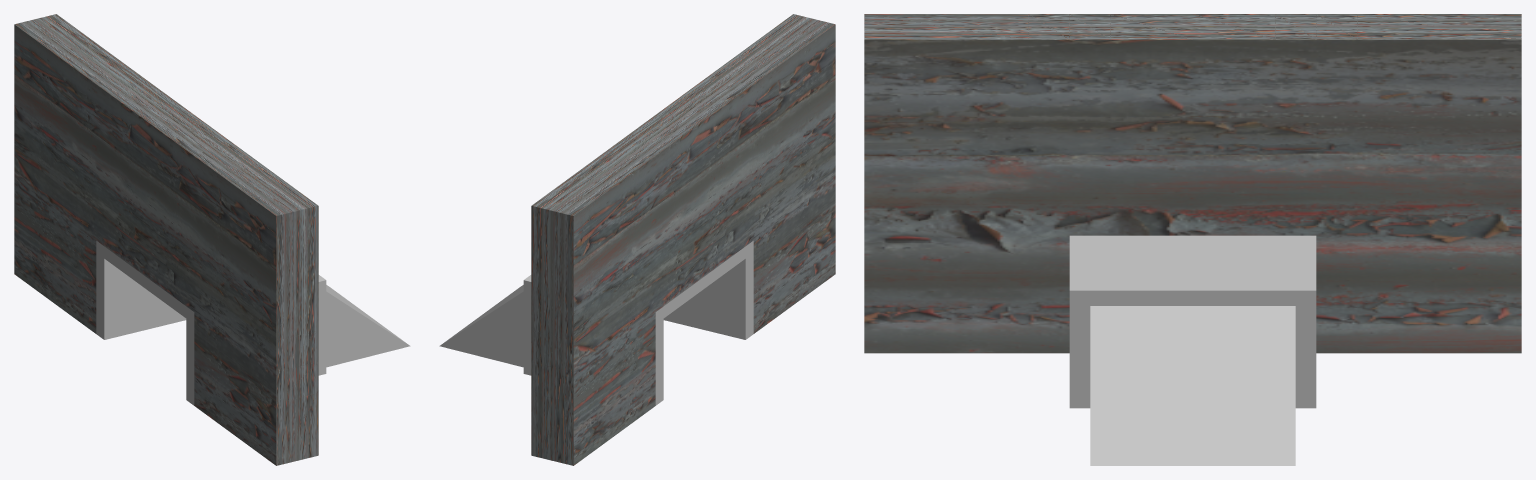
Rendered from goal wall 1.obj.
3 renders of one model, left to right at view 1: azimuth 30°, elevation 25°; view 2: azimuth 150°, elevation 25°; view 3: azimuth 270°, elevation 25°, orthographic. The views are drawn at different scales.
Parts seen in each view (by area): view 1: goal_wall_1_Cube.004, goal_1_Cube.008, goal_1_back_Cube.009; view 2: goal_wall_1_Cube.004, goal_1_Cube.008, goal_1_back_Cube.009; view 3: goal_wall_1_Cube.004, goal_1_back_Cube.009, goal_1_Cube.008.
Part boxes in pixels (left/top/right/bottom): goal_wall_1_Cube.004: left=14, top=14, right=318, bottom=465; goal_1_Cube.008: left=96, top=241, right=326, bottom=405; goal_1_back_Cube.009: left=326, top=285, right=410, bottom=367; goal_wall_1_Cube.004: left=531, top=14, right=835, bottom=465; goal_1_Cube.008: left=523, top=241, right=753, bottom=405; goal_1_back_Cube.009: left=439, top=285, right=523, bottom=367; goal_wall_1_Cube.004: left=864, top=14, right=1521, bottom=353; goal_1_back_Cube.009: left=1090, top=306, right=1295, bottom=465; goal_1_Cube.008: left=1069, top=235, right=1316, bottom=408.
Bounding box in the file's own units: 170 × 182 × 344.
